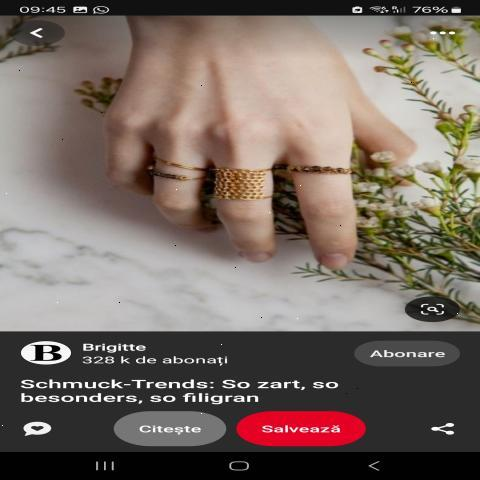Hands: (87, 14, 431, 283)
